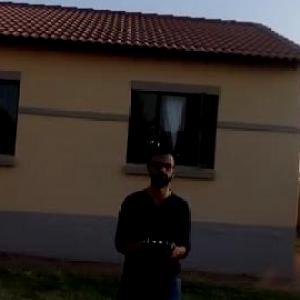follow: (109, 140, 193, 299)
